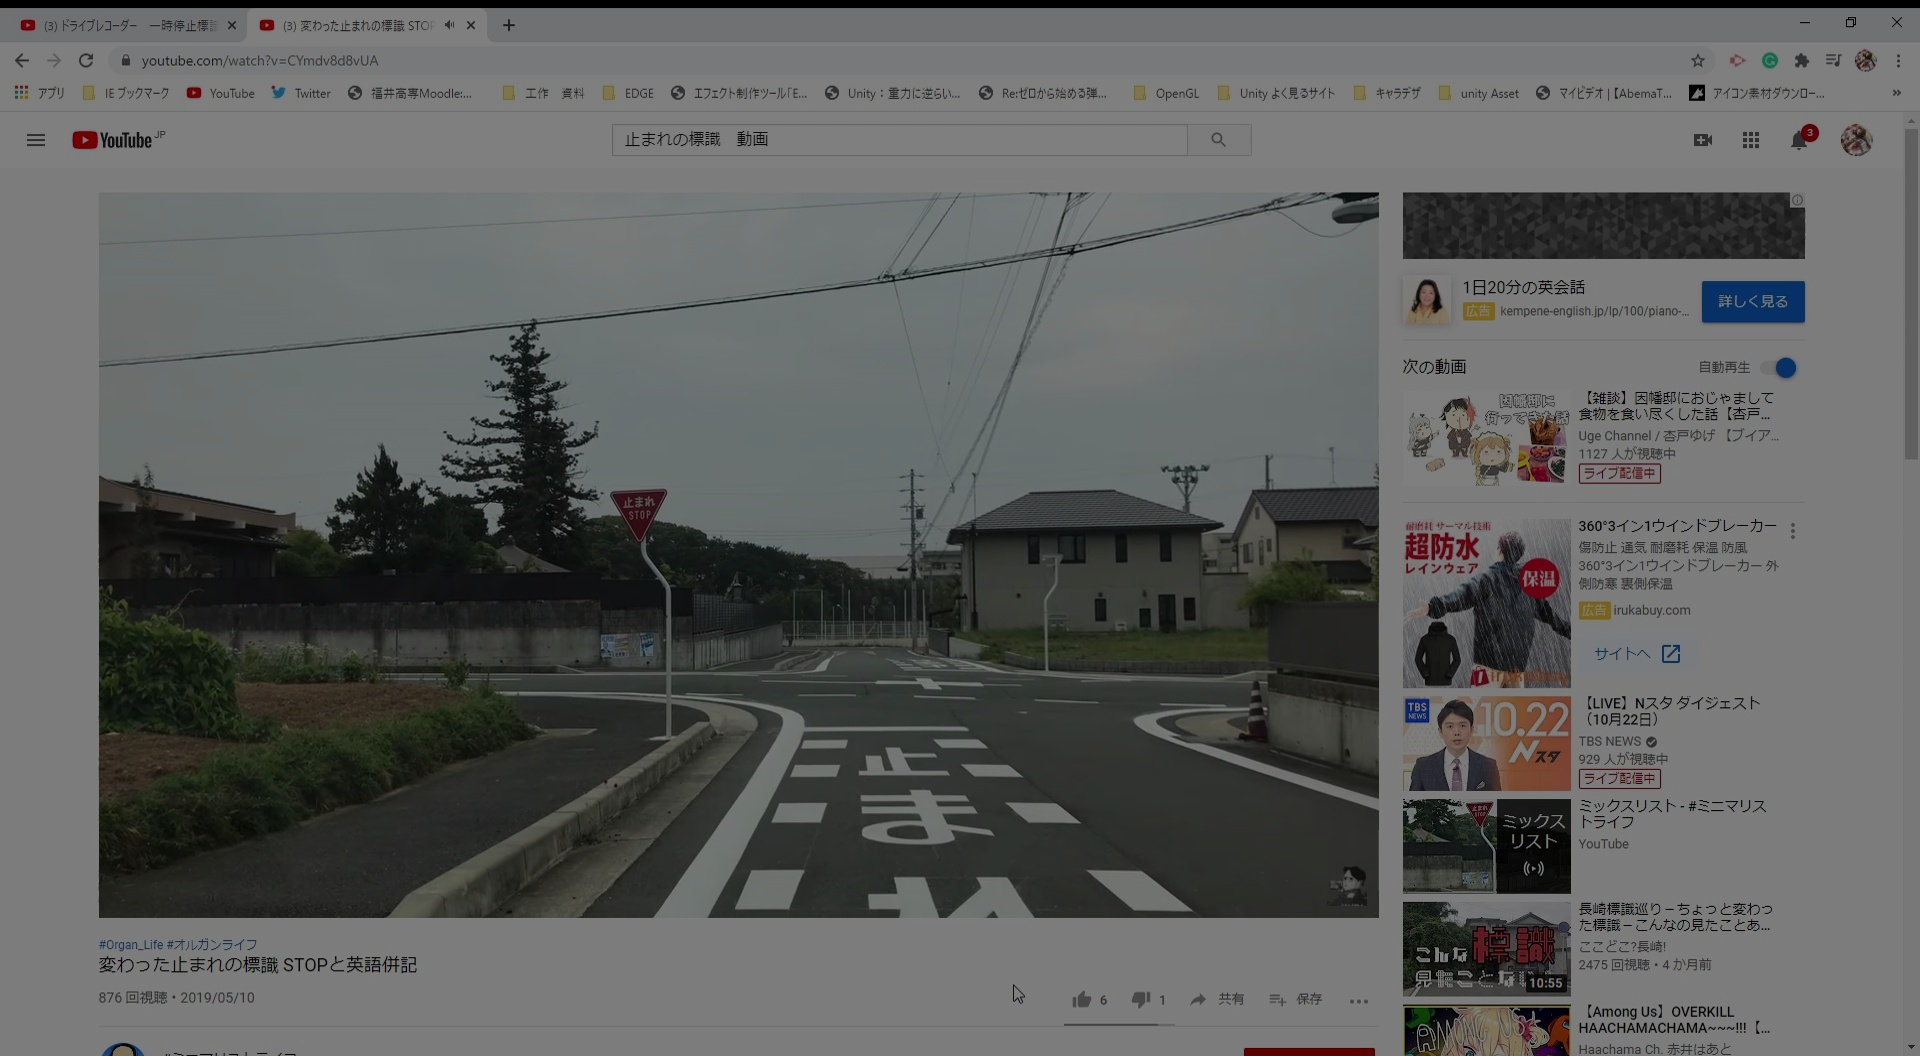Regulatory_sign_triangle: (604, 479, 673, 549)
